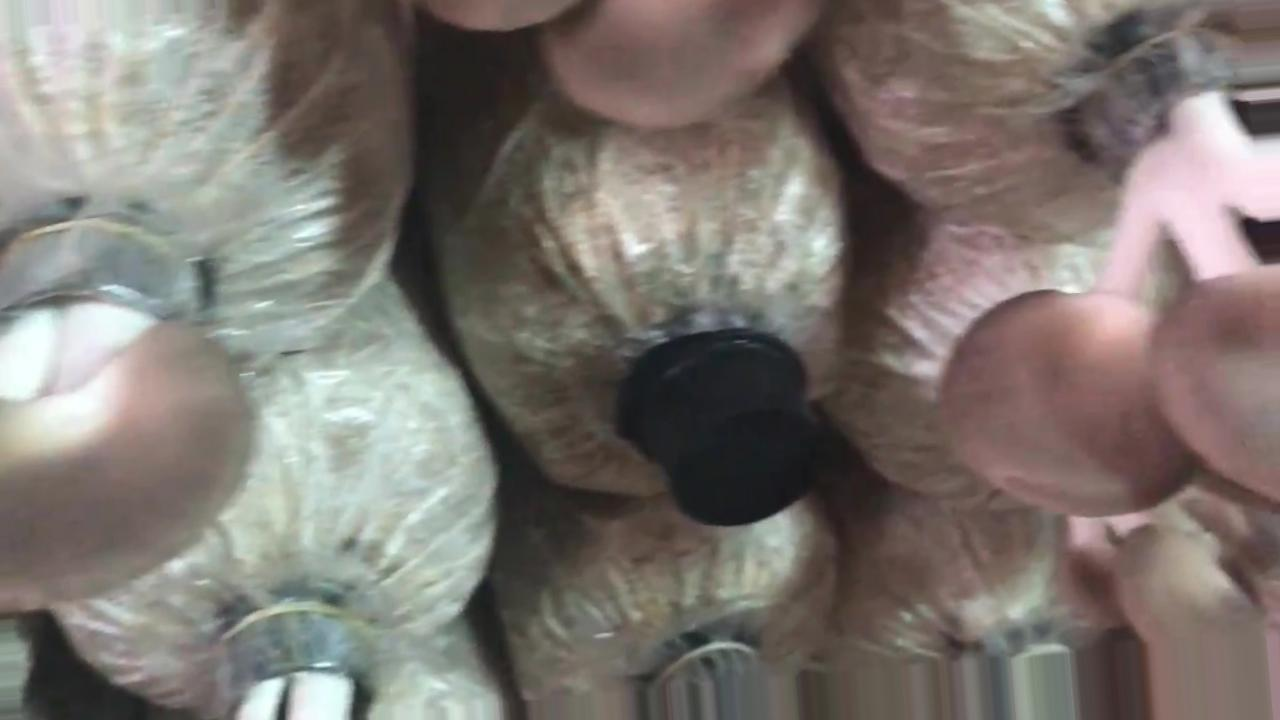nam: (931, 25, 1280, 523), (1, 196, 259, 620)
